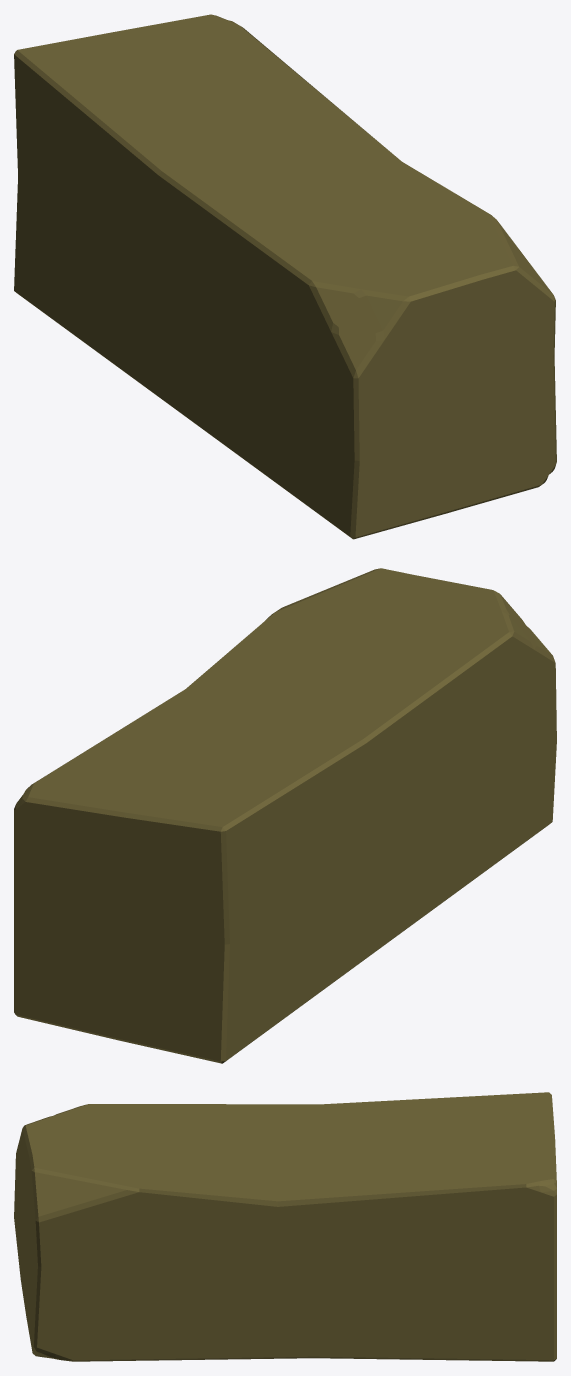
File: brick2.fbx
3 renders of one model, top to bottom at view 1: azimuth 30°, elevation 25°; view 2: azimuth 150°, elevation 25°; view 3: azimuth 270°, elevation 25°, orthographic. The views are drawn at different scales.
Parts seen in each view (by area): view 1: Brick_2; view 2: Brick_2; view 3: Brick_2.
Part boxes in pixels (x1=…): Brick_2: x1=14, y1=14, x2=556, y2=539; Brick_2: x1=14, y1=568, x2=556, y2=1063; Brick_2: x1=14, y1=1092, x2=556, y2=1361.
Size of the model in its own units: 32.7 by 35.28 by 91.28.
